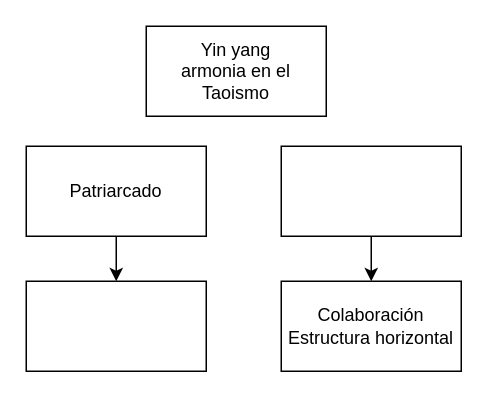
Image size: 488x398. Some labels were removed from this diagram. Each missing label, with the centre of its shape:
"Machismo Competencia estructura vertical" goes at (115,325).
"Matriarcado" goes at (370,190).
